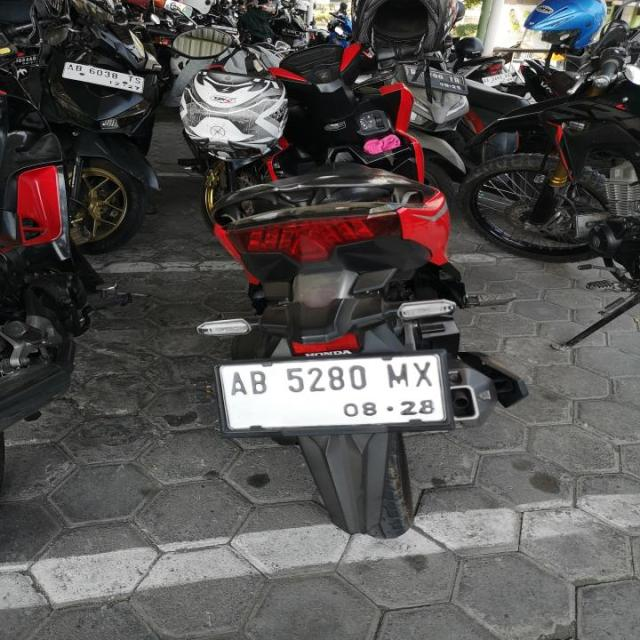License Plate: (216, 352, 446, 433), (61, 60, 146, 96), (402, 63, 468, 95)
